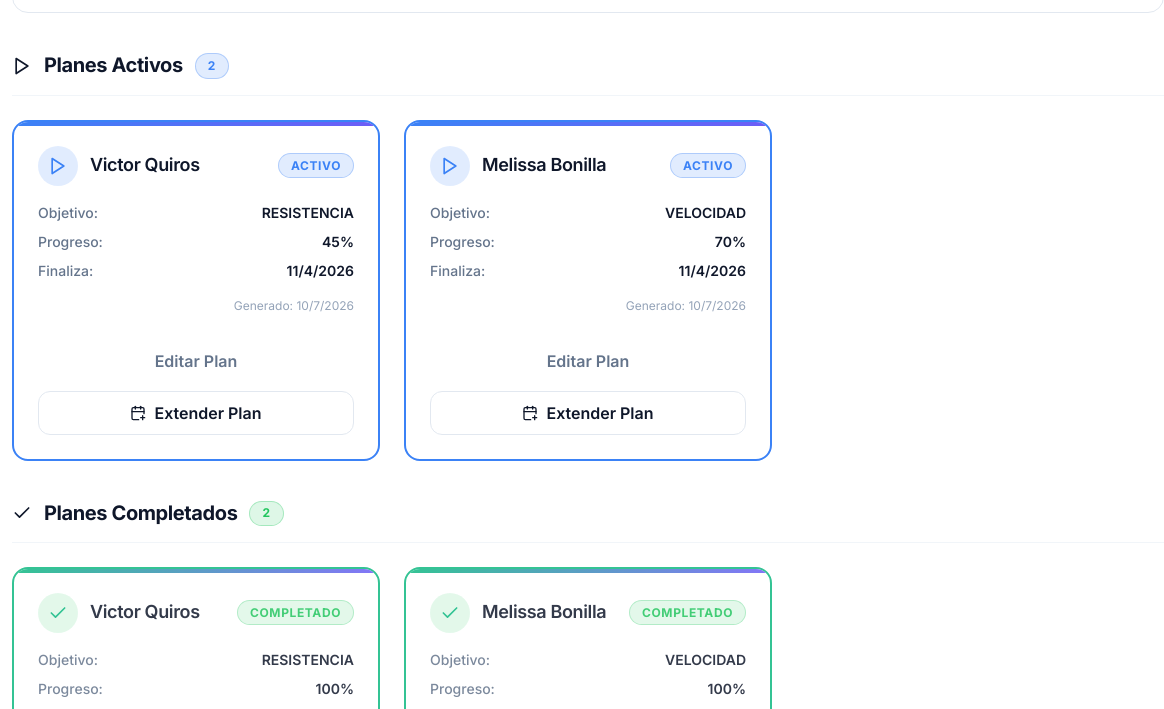
it: CoachDashboard: recorrido de demo › abre el editor de un plan activo del demo
(page scrolled)
Click the button "Editar Plan" below "45" at (196, 360), box [38,338,354,382]
(page scrolled)
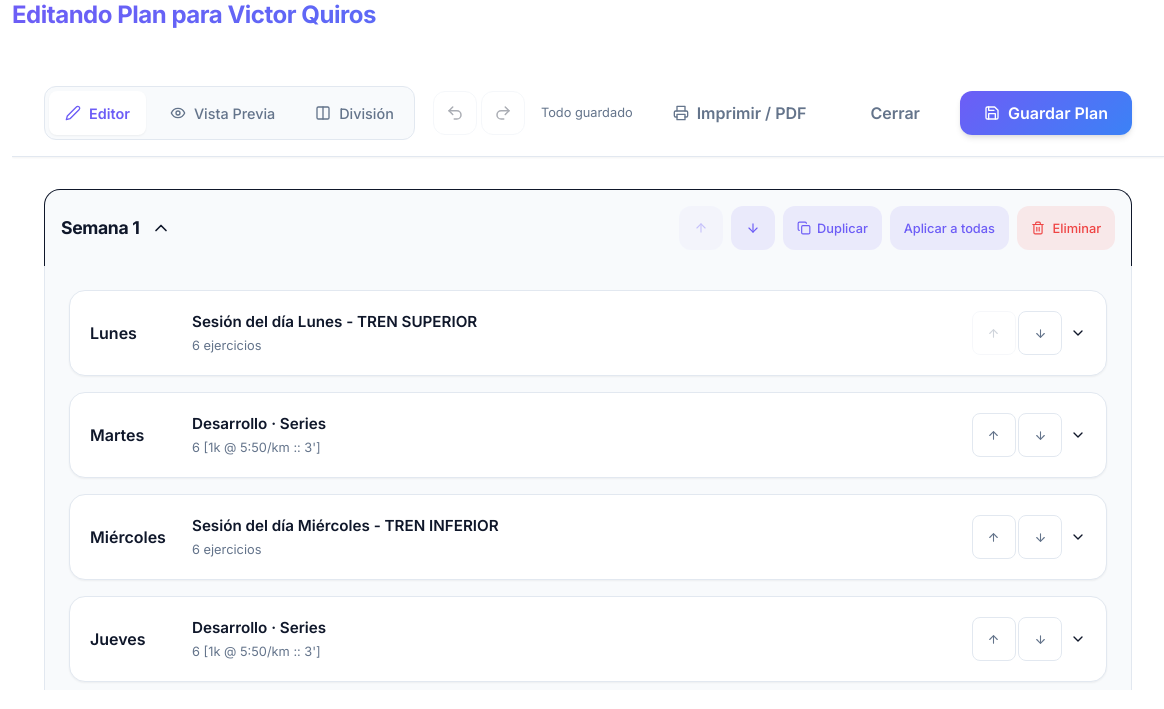
Now the heading "Editando Plan para Victor Quiros" is shown, box [12,0,1163,30]
